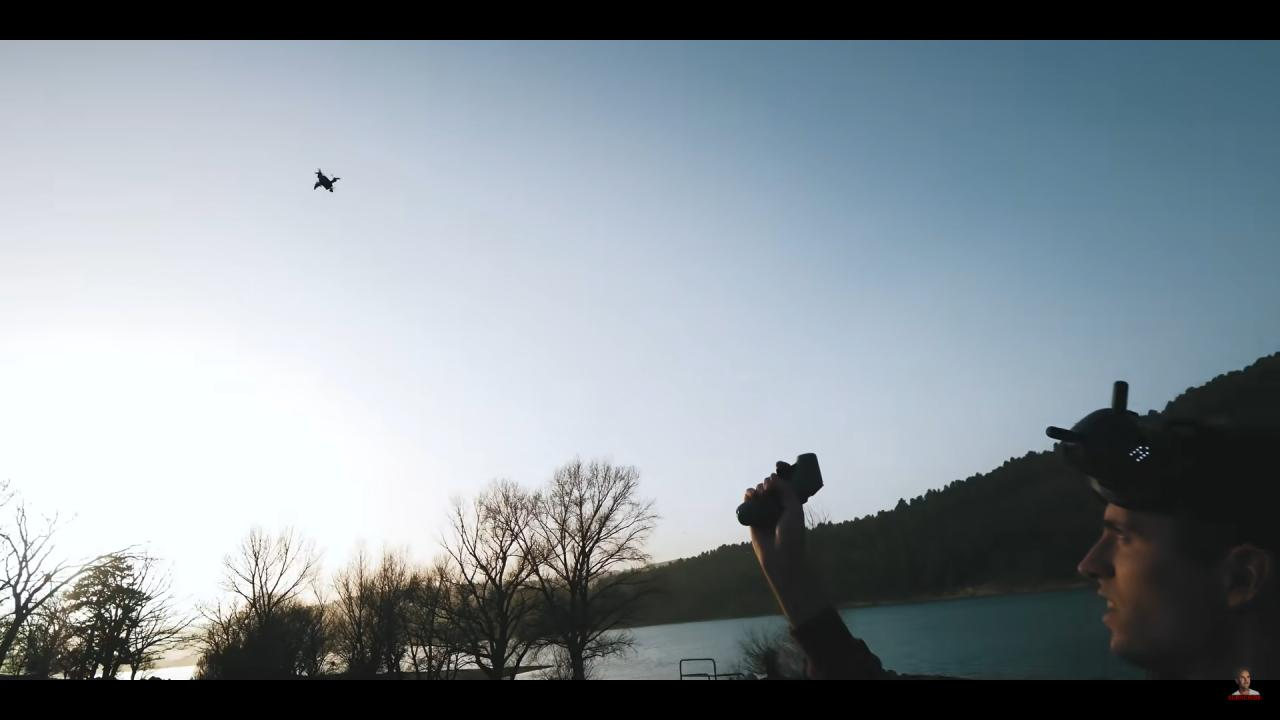Drone: (296, 157, 352, 207)
